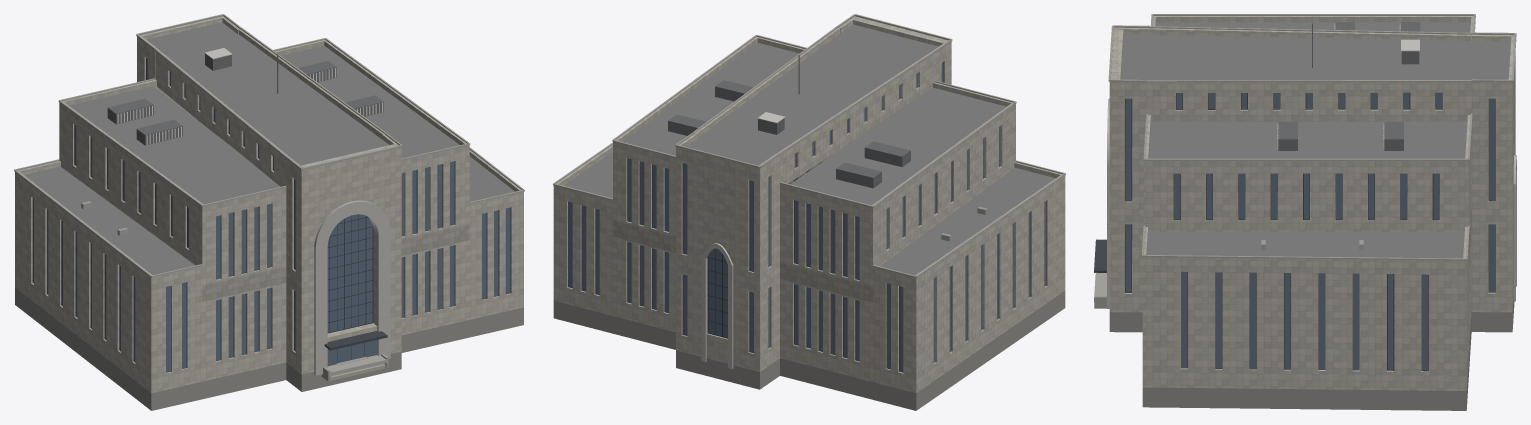
The picture shows the model from 3 angles, left to right: view 1: azimuth 30°, elevation 25°; view 2: azimuth 150°, elevation 25°; view 3: azimuth 270°, elevation 25°; orthographic projection. The views are drawn at different scales.
Parts seen in each view (by area): view 1: b02__stone-panel-wall, b02__roof, b02__glass, b02__arch-facade-wall, b02__plinth-stone-wall, b02__arch-glass, b02__arch-frame-stone, b02__roof-edge, b02__frame, b02__louver-back, b02__stone-band-wall, b02__louver-white (+3 smaller); view 2: b02__stone-panel-wall, b02__roof, b02__arch-facade-wall, b02__glass, b02__plinth-stone-wall, b02__roof-edge, b02__louver-back, b02__frame, b02__stone-band-wall, b02__arch-glass, b02__arch-frame-stone; view 3: b02__stone-panel-wall, b02__roof, b02__glass, b02__plinth-stone-wall, b02__roof-edge, b02__frame, b02__louver-back, b02__arch-facade-wall, b02__arch-frame-stone, b02__floor-slab, b02__canopy-steel.
Boxes of the visible parts, bbox=[...] form: b02__stone-panel-wall: bbox=[15, 16, 523, 393]; b02__roof: bbox=[24, 22, 514, 274]; b02__glass: bbox=[32, 58, 510, 372]; b02__arch-facade-wall: bbox=[141, 17, 401, 374]; b02__plinth-stone-wall: bbox=[15, 287, 523, 410]; b02__arch-glass: bbox=[327, 214, 372, 332]; b02__arch-frame-stone: bbox=[314, 200, 390, 375]; b02__roof-edge: bbox=[14, 14, 524, 277]; b02__frame: bbox=[47, 58, 510, 372]; b02__louver-back: bbox=[107, 54, 383, 145]; b02__stone-band-wall: bbox=[202, 224, 469, 301]; b02__louver-white: bbox=[117, 68, 382, 144]; b02__stone-panel-wall: bbox=[553, 16, 1065, 393]; b02__roof: bbox=[564, 24, 1055, 275]; b02__arch-facade-wall: bbox=[676, 17, 947, 371]; b02__glass: bbox=[568, 62, 1045, 372]; b02__plinth-stone-wall: bbox=[553, 291, 1065, 410]; b02__roof-edge: bbox=[553, 14, 1065, 277]; b02__louver-back: bbox=[668, 80, 910, 188]; b02__frame: bbox=[568, 61, 1046, 370]; b02__stone-band-wall: bbox=[613, 220, 872, 302]; b02__arch-glass: bbox=[708, 248, 727, 337]; b02__arch-frame-stone: bbox=[701, 243, 733, 368]; b02__stone-panel-wall: bbox=[1109, 16, 1514, 390]; b02__roof: bbox=[1120, 22, 1510, 258]; b02__glass: bbox=[1125, 92, 1495, 370]; b02__plinth-stone-wall: bbox=[1109, 187, 1514, 410]; b02__roof-edge: bbox=[1108, 14, 1516, 260]; b02__frame: bbox=[1125, 93, 1495, 371]; b02__louver-back: bbox=[1278, 22, 1420, 150]; b02__arch-facade-wall: bbox=[1110, 29, 1515, 311]; b02__arch-frame-stone: bbox=[1107, 98, 1516, 308]; b02__floor-slab: bbox=[1132, 191, 1488, 370]; b02__canopy-steel: bbox=[1094, 239, 1106, 272].
Size of the model in its own units: 59.88 by 39.2 by 51.85.
24 materials, 5 textured.
